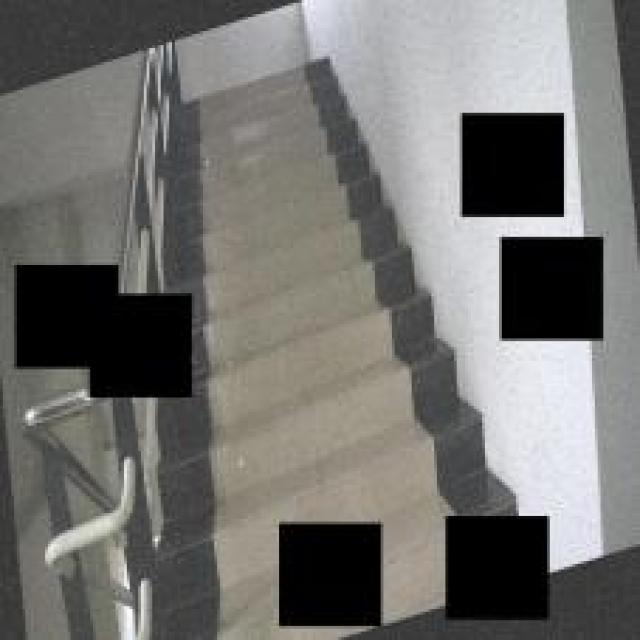upstair: (163, 81, 392, 288)
